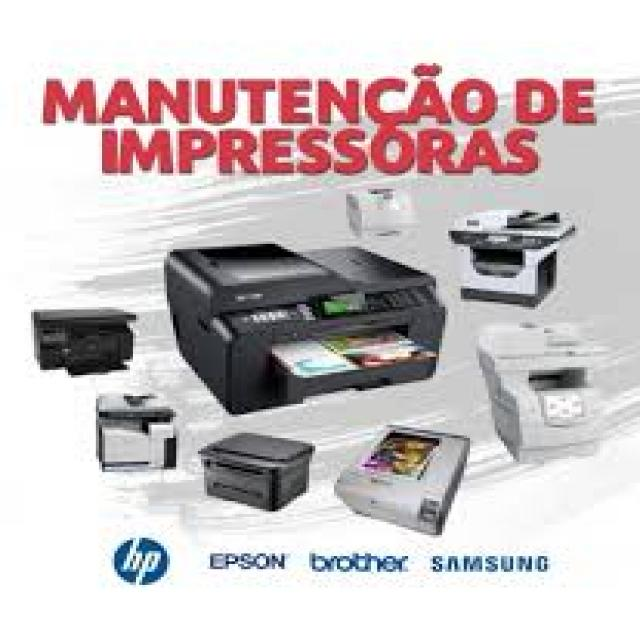printer: (160, 242, 454, 417), (475, 323, 620, 467), (329, 420, 477, 540), (449, 204, 579, 308), (196, 426, 316, 516), (88, 388, 184, 478), (28, 307, 140, 382), (342, 187, 426, 243)
